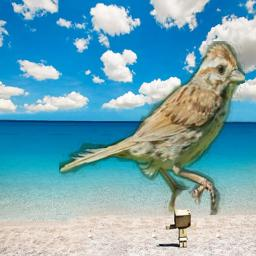Sparrow: (59, 41, 245, 215)
